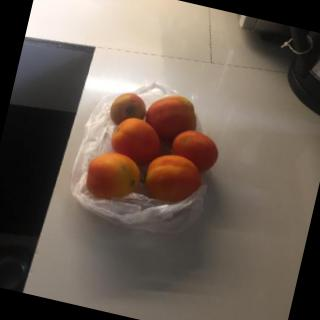Tomat: (67, 71, 235, 235)
